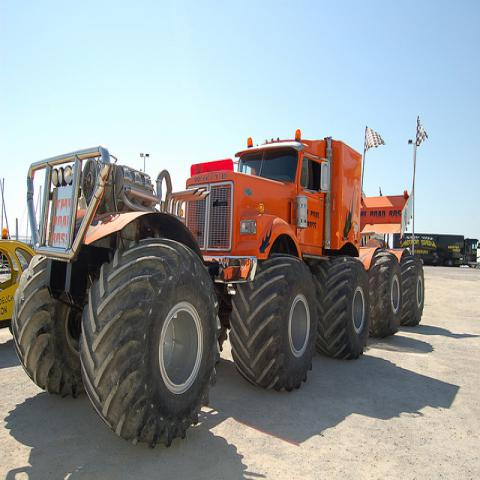car: (0, 239, 36, 336)
truck: (7, 122, 431, 460)
